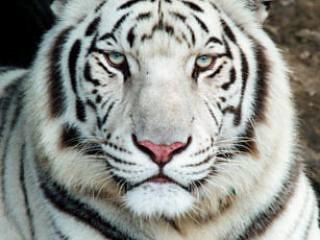tiger: (1, 1, 320, 240)
